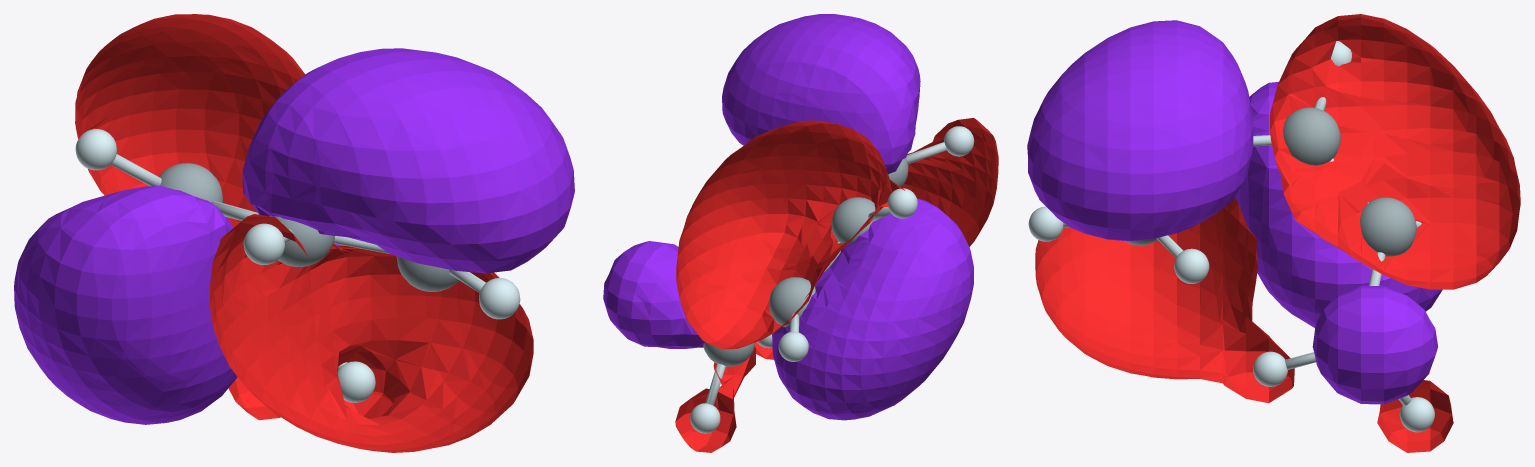
The picture shows the model from 3 angles, left to right: view 1: azimuth 30°, elevation 25°; view 2: azimuth 150°, elevation 25°; view 3: azimuth 270°, elevation 25°; orthographic projection. The views are drawn at different scales.
Parts seen in each view (by area): view 1: Renderer Node; view 2: Renderer Node; view 3: Renderer Node.
Boxes of the visible parts, x1,y1,x2,y2 form: Renderer Node: [14, 14, 574, 452]; Renderer Node: [603, 14, 998, 452]; Renderer Node: [1027, 14, 1520, 452].
Size of the model in its own units: 4.93 by 5.02 by 5.59.
